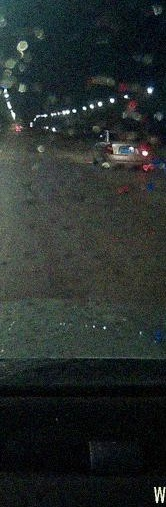L_light: (105, 144, 114, 154)
R_light: (140, 145, 150, 156)
T_light: (124, 132, 133, 135)
night-right: (105, 130, 151, 170)
